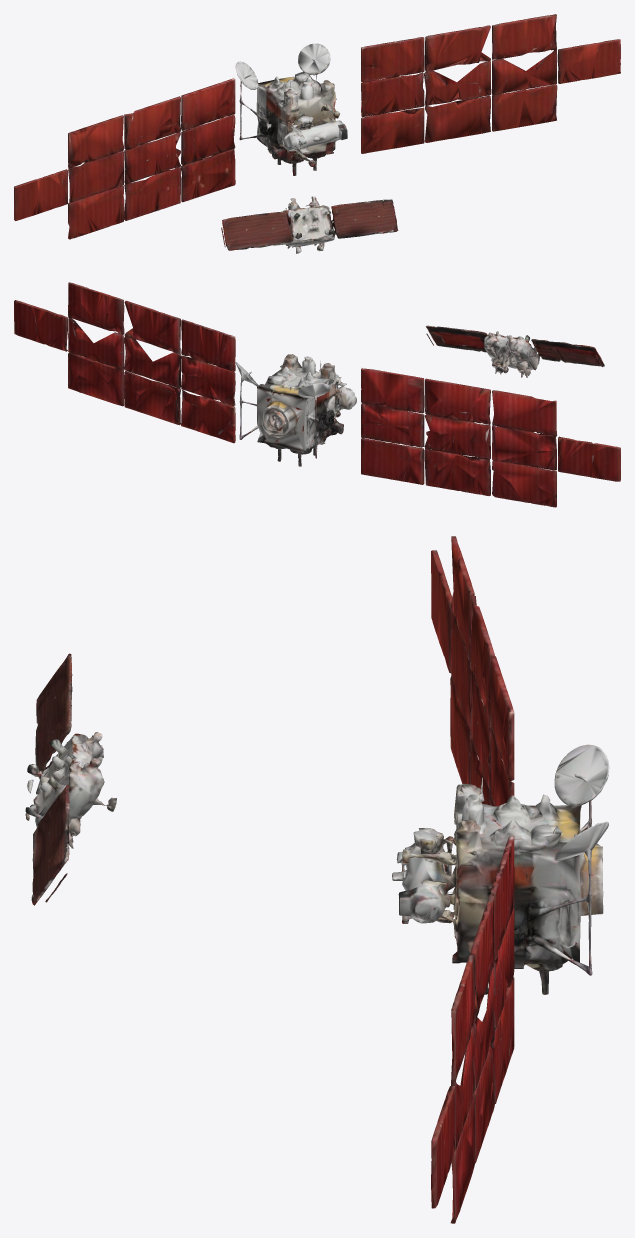
Rendered from lightship1-low.glb.
3 renders of one model, top to bottom at view 1: azimuth 30°, elevation 25°; view 2: azimuth 150°, elevation 25°; view 3: azimuth 270°, elevation 25°, orthographic. The views are drawn at different scales.
Size of the model in its own units: 1.9 by 0.3179 by 0.7923.
Materials: 1 (1 with a texture image).
